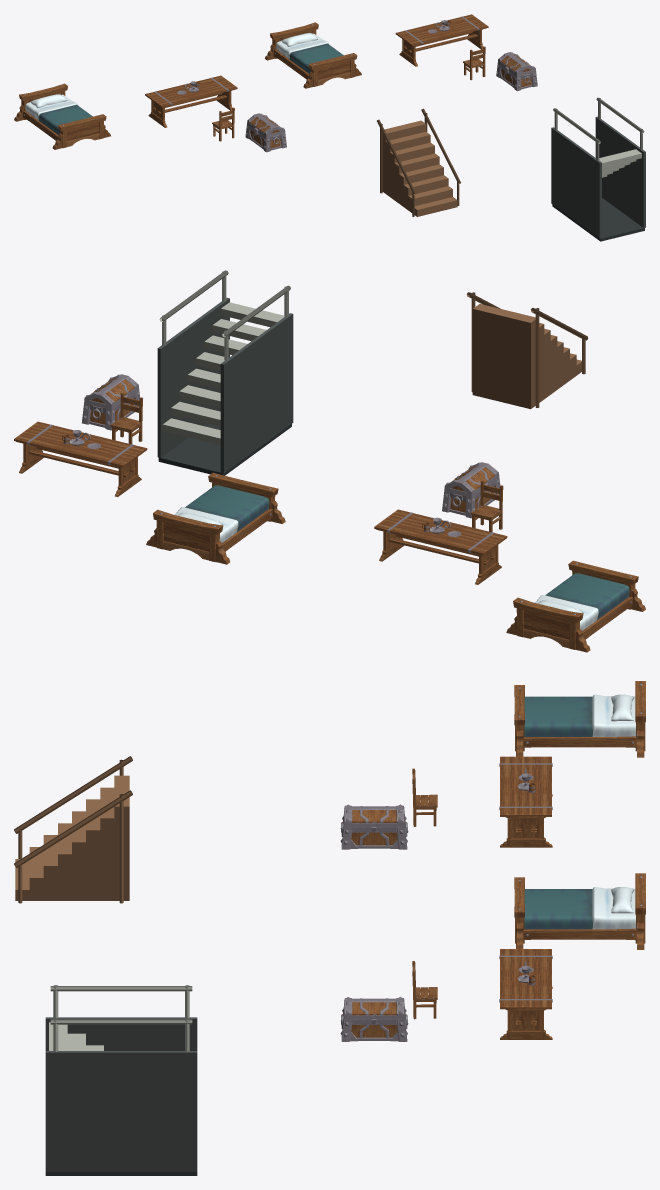
File: realm_fernwatch_0_upper.gltf
3 views of the same model, one above another, from view 1: azimuth 30°, elevation 25°; view 2: azimuth 150°, elevation 25°; view 3: azimuth 270°, elevation 25° (orthographic). The views are drawn at different scales.
Visible parts, largest first — view 1: bd1da508605bdb79854f41384228e25f0d870f0a2566d400426b7f09dc8e, c2df40a66453636f63457faec436195ffd3d73cde0dcddf7486ad93257fe (×2), 82100af1b928c00468f69366df486273076c34d42de27ff785a86b896db8, f4b04e3619cf212187b96076e7e940da50275113f8897ecbcd59f5921342 (×2), 974a21d8ae8e0859926ffd9e6f304d80a7c46e7e5ee3150935a76e128408 (×2), ddcc3d6e1ffba2575a9ad5c6e02f5f299d918638f3e83151b75ace5729ff (×2); view 2: bd1da508605bdb79854f41384228e25f0d870f0a2566d400426b7f09dc8e, c2df40a66453636f63457faec436195ffd3d73cde0dcddf7486ad93257fe (×2), 82100af1b928c00468f69366df486273076c34d42de27ff785a86b896db8, f4b04e3619cf212187b96076e7e940da50275113f8897ecbcd59f5921342 (×2), 974a21d8ae8e0859926ffd9e6f304d80a7c46e7e5ee3150935a76e128408 (×2), ddcc3d6e1ffba2575a9ad5c6e02f5f299d918638f3e83151b75ace5729ff (×2); view 3: bd1da508605bdb79854f41384228e25f0d870f0a2566d400426b7f09dc8e, c2df40a66453636f63457faec436195ffd3d73cde0dcddf7486ad93257fe (×2), 82100af1b928c00468f69366df486273076c34d42de27ff785a86b896db8, f4b04e3619cf212187b96076e7e940da50275113f8897ecbcd59f5921342 (×2), 974a21d8ae8e0859926ffd9e6f304d80a7c46e7e5ee3150935a76e128408 (×2).
Part boxes in pixels (<box>): bd1da508605bdb79854f41384228e25f0d870f0a2566d400426b7f09dc8e: <box>551,97,645,241</box>; c2df40a66453636f63457faec436195ffd3d73cde0dcddf7486ad93257fe (×2): <box>14,22,361,149</box>; 82100af1b928c00468f69366df486273076c34d42de27ff785a86b896db8: <box>377,108,460,216</box>; f4b04e3619cf212187b96076e7e940da50275113f8897ecbcd59f5921342 (×2): <box>145,14,488,127</box>; 974a21d8ae8e0859926ffd9e6f304d80a7c46e7e5ee3150935a76e128408 (×2): <box>245,52,537,152</box>; ddcc3d6e1ffba2575a9ad5c6e02f5f299d918638f3e83151b75ace5729ff (×2): <box>212,46,485,141</box>; bd1da508605bdb79854f41384228e25f0d870f0a2566d400426b7f09dc8e: <box>157,270,293,475</box>; c2df40a66453636f63457faec436195ffd3d73cde0dcddf7486ad93257fe (×2): <box>146,472,645,652</box>; 82100af1b928c00468f69366df486273076c34d42de27ff785a86b896db8: <box>466,292,588,409</box>; f4b04e3619cf212187b96076e7e940da50275113f8897ecbcd59f5921342 (×2): <box>14,421,507,584</box>; 974a21d8ae8e0859926ffd9e6f304d80a7c46e7e5ee3150935a76e128408 (×2): <box>82,374,500,518</box>; ddcc3d6e1ffba2575a9ad5c6e02f5f299d918638f3e83151b75ace5729ff (×2): <box>110,392,503,532</box>; bd1da508605bdb79854f41384228e25f0d870f0a2566d400426b7f09dc8e: <box>45,985,197,1175</box>; c2df40a66453636f63457faec436195ffd3d73cde0dcddf7486ad93257fe (×2): <box>514,681,645,949</box>; 82100af1b928c00468f69366df486273076c34d42de27ff785a86b896db8: <box>14,756,132,903</box>; f4b04e3619cf212187b96076e7e940da50275113f8897ecbcd59f5921342 (×2): <box>499,756,552,1039</box>; 974a21d8ae8e0859926ffd9e6f304d80a7c46e7e5ee3150935a76e128408 (×2): <box>340,804,408,1041</box>.
Bounding box in the file's own units: 15.85 × 5.14 × 12.5.
Materials: 15 (13 with a texture image).
